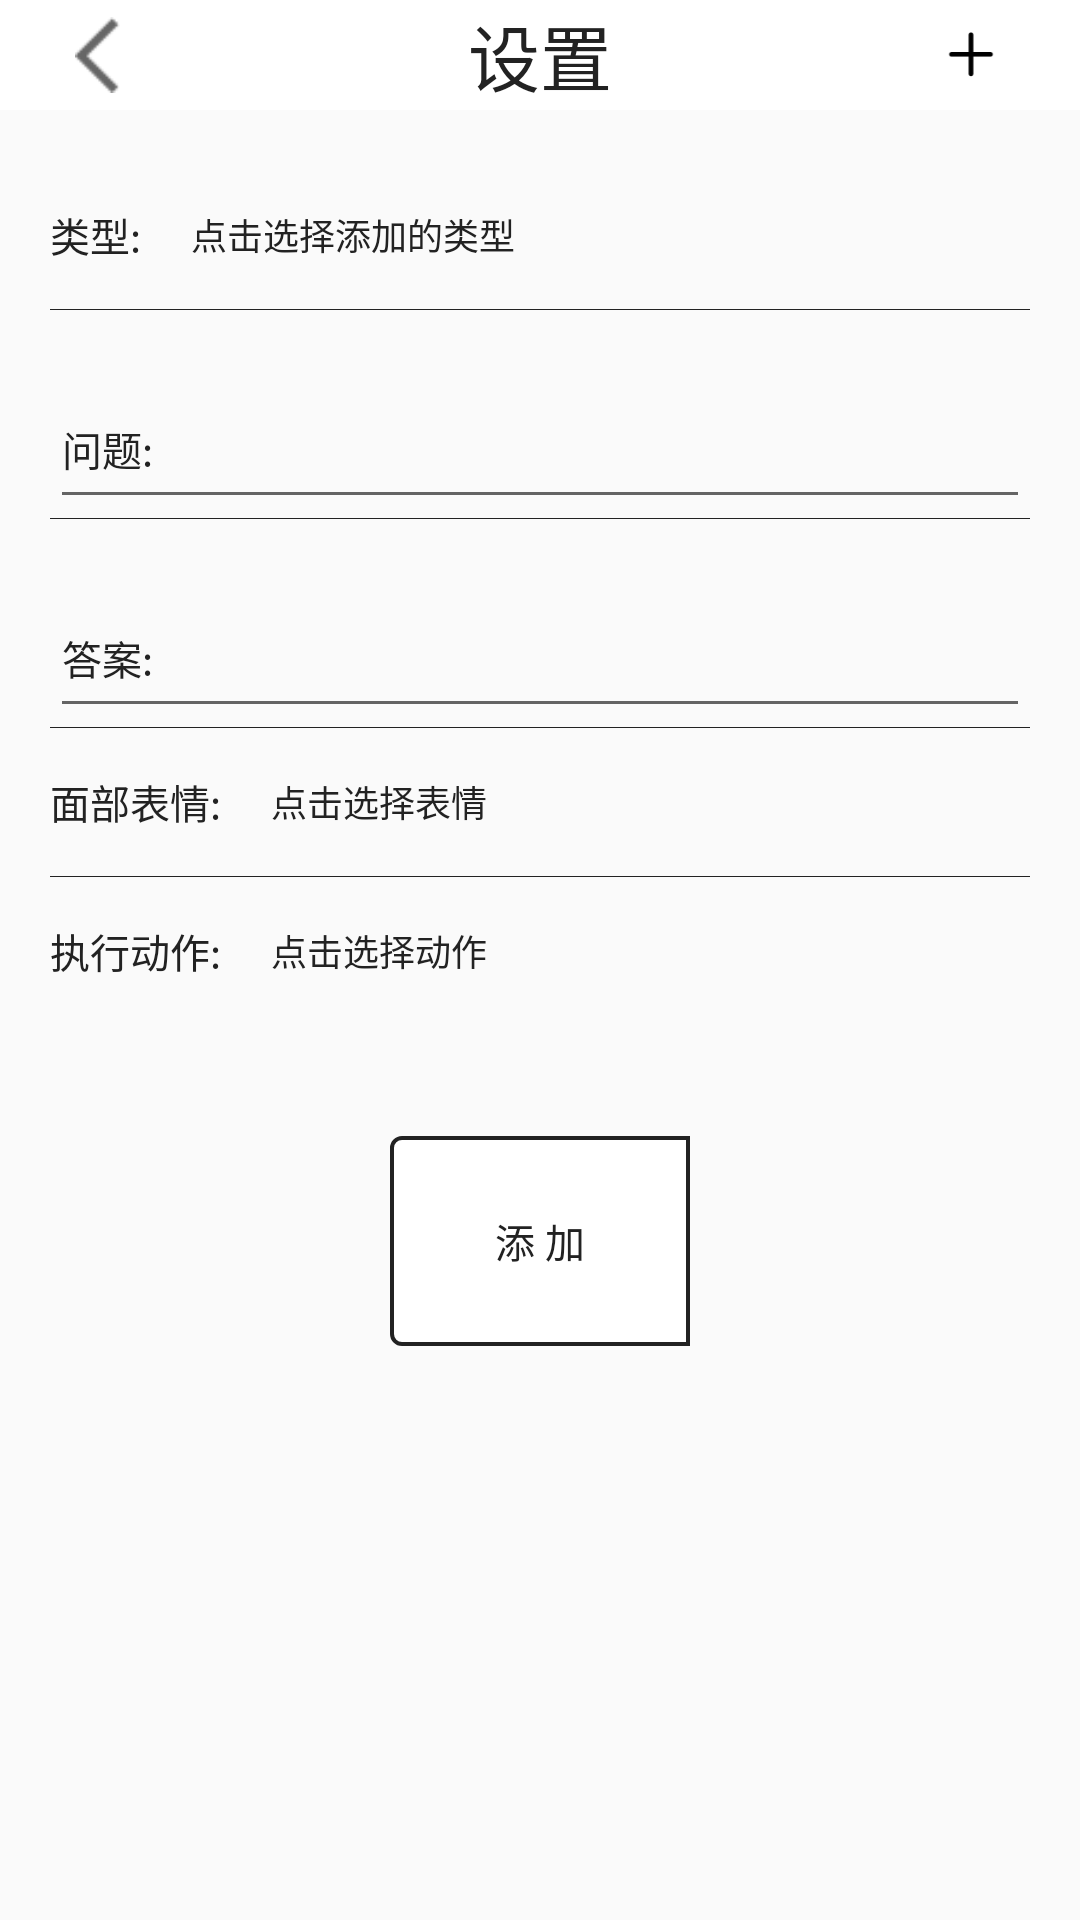

Icon click points for this 1080px×1920px phone screenshot, format (x=x, y=y):
add data: (x=971, y=54)
goback: (x=97, y=55)
